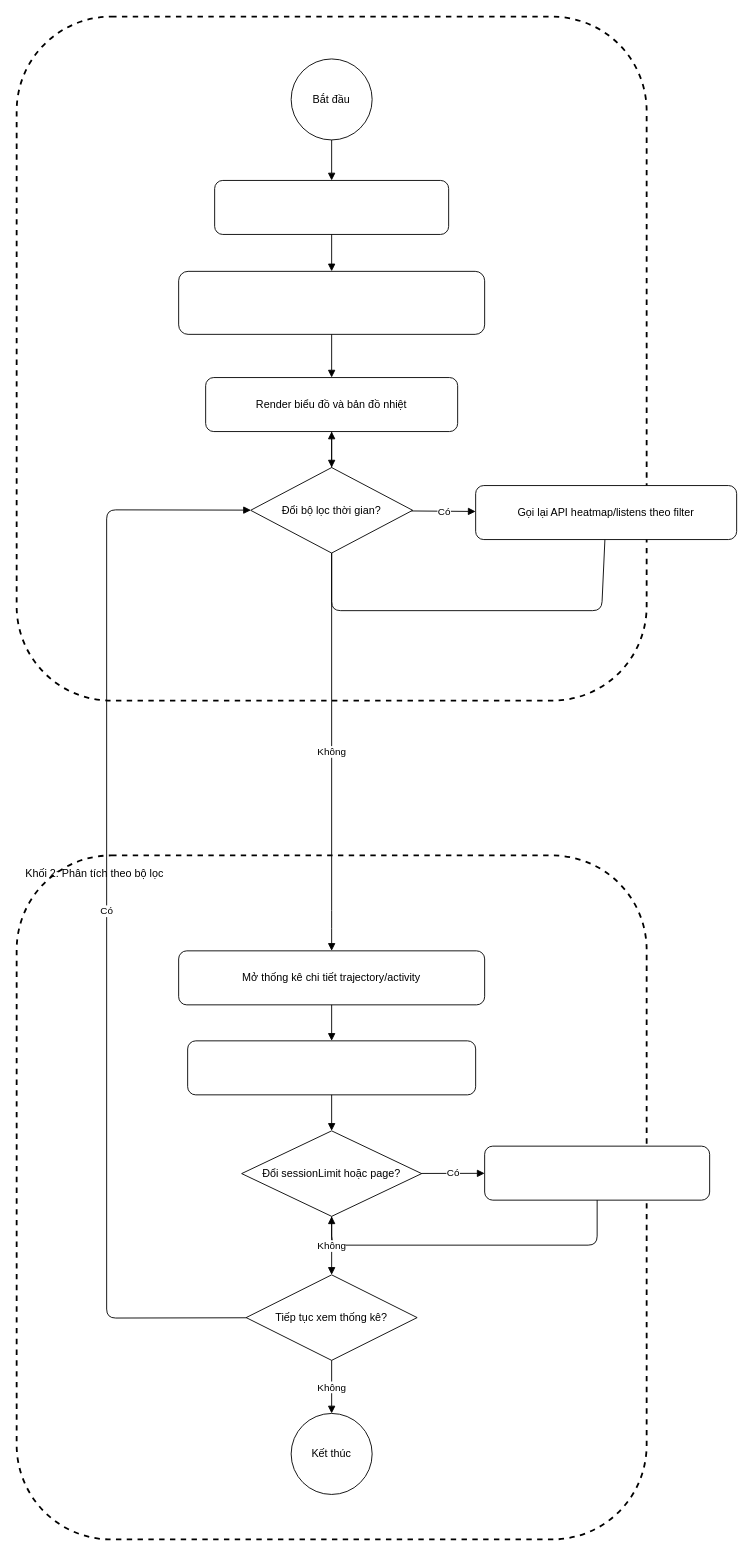
This 752x1555 diagram has some shape labels left out. Here are the shapes that lost their labels. From the top down, the box of each, then its label:
(214, 180, 449, 234): Mở tab Thống kê
(178, 270, 485, 334): Tải KPI + top restaurants + heatmap mặc định
(15, 15, 647, 701): Khối 1: KPI tổng quan
(187, 1040, 476, 1095): Tải movement paths + recent activity
(484, 1145, 710, 1200): Gọi lại API dữ liệu chi tiết
